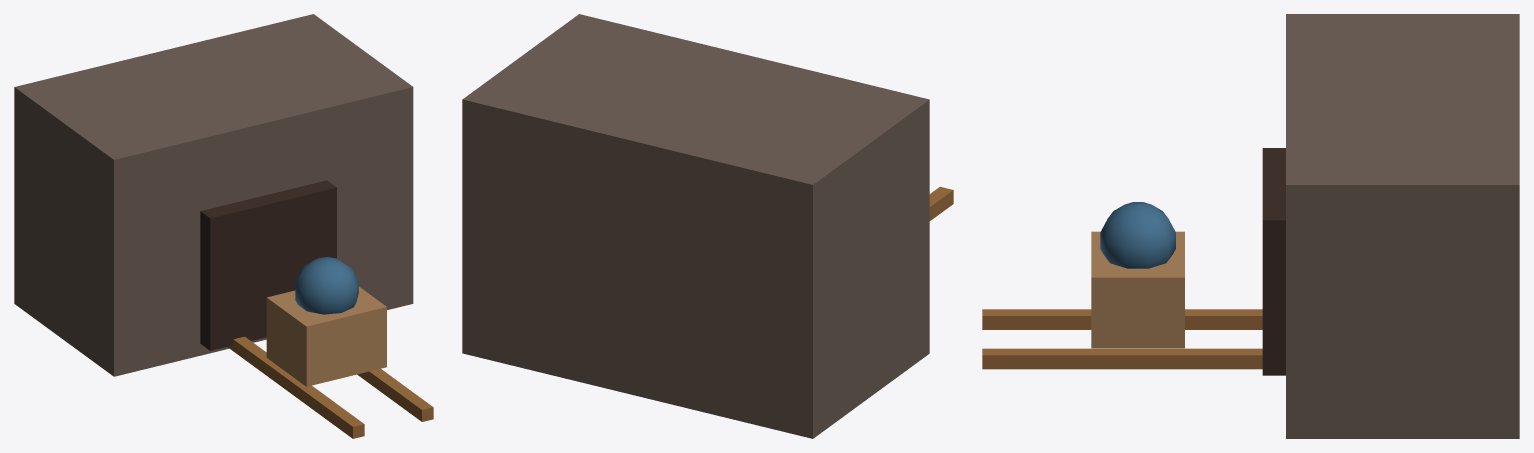
Rendered from imp_ling_kuang.glb.
3 views of the same model, side by side, from view 1: azimuth 30°, elevation 25°; view 2: azimuth 150°, elevation 25°; view 3: azimuth 270°, elevation 25° (orthographic). The views are drawn at different scales.
Parts seen in each view (by area): view 1: _MeshInstance3D_183, _MeshInstance3D_184, _MeshInstance3D_187, _MeshInstance3D_188, _MeshInstance3D_185, _MeshInstance3D_186; view 2: _MeshInstance3D_183, _MeshInstance3D_185; view 3: _MeshInstance3D_183, _MeshInstance3D_187, _MeshInstance3D_186, _MeshInstance3D_184, _MeshInstance3D_188, _MeshInstance3D_185.
Boxes of the visible parts, x1,y1,x2,y2 form: _MeshInstance3D_183: [14, 14, 413, 376]; _MeshInstance3D_184: [200, 180, 336, 350]; _MeshInstance3D_187: [266, 286, 386, 386]; _MeshInstance3D_188: [295, 257, 358, 314]; _MeshInstance3D_185: [228, 336, 364, 438]; _MeshInstance3D_186: [357, 368, 433, 421]; _MeshInstance3D_183: [462, 14, 929, 438]; _MeshInstance3D_185: [929, 186, 953, 220]; _MeshInstance3D_183: [1286, 14, 1519, 438]; _MeshInstance3D_187: [1091, 231, 1184, 348]; _MeshInstance3D_186: [982, 348, 1262, 369]; _MeshInstance3D_184: [1262, 148, 1285, 375]; _MeshInstance3D_188: [1100, 202, 1175, 268]; _MeshInstance3D_185: [982, 309, 1262, 329].
Bounding box in the file's own units: 0.52 × 0.36 × 0.69.
